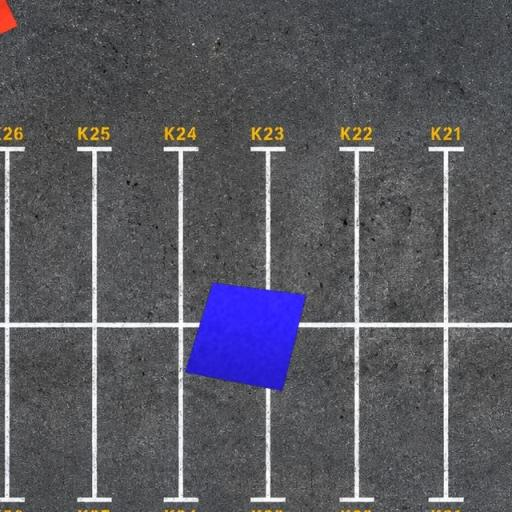BLUE_SQUARE: (184, 282, 307, 392)
